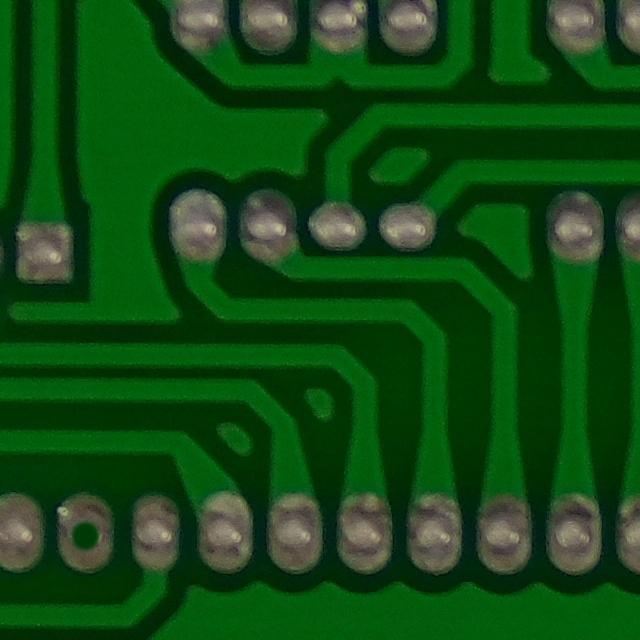missing_hole: (50, 489, 125, 577)
